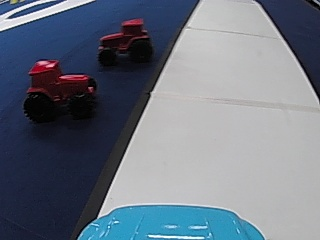Tracktor: (21, 57, 101, 124), (98, 17, 152, 65)
